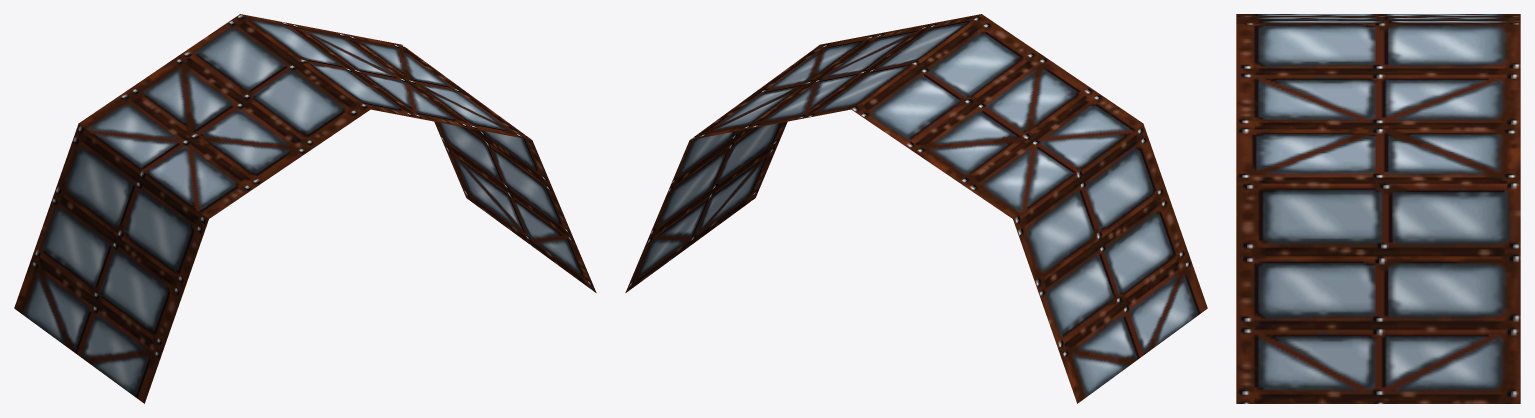
File: Dach_HalbtonneGanz2_881.glb
The picture shows the model from 3 angles, left to right: view 1: azimuth 30°, elevation 25°; view 2: azimuth 150°, elevation 25°; view 3: azimuth 270°, elevation 25°; orthographic projection. The views are drawn at different scales.
Parts seen in each view (by area): view 1: pCylinderShape1; view 2: pCylinderShape1; view 3: pCylinderShape1.
Part boxes in pixels (left/top/right/bottom): pCylinderShape1: left=14, top=14, right=596, bottom=403; pCylinderShape1: left=625, top=14, right=1207, bottom=403; pCylinderShape1: left=1236, top=14, right=1520, bottom=403.
Size of the model in its own units: 1 by 0.5056 by 0.5.
1 material, 1 textured.
